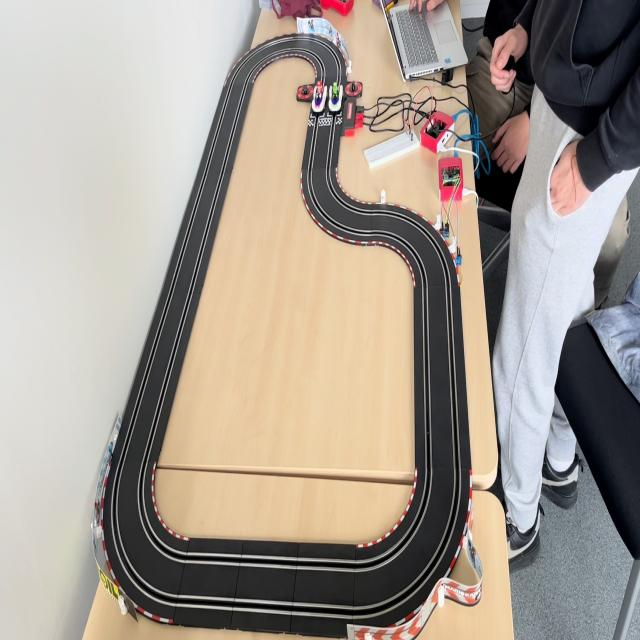mario: (311, 83, 329, 115)
yoshi: (330, 84, 345, 116)
